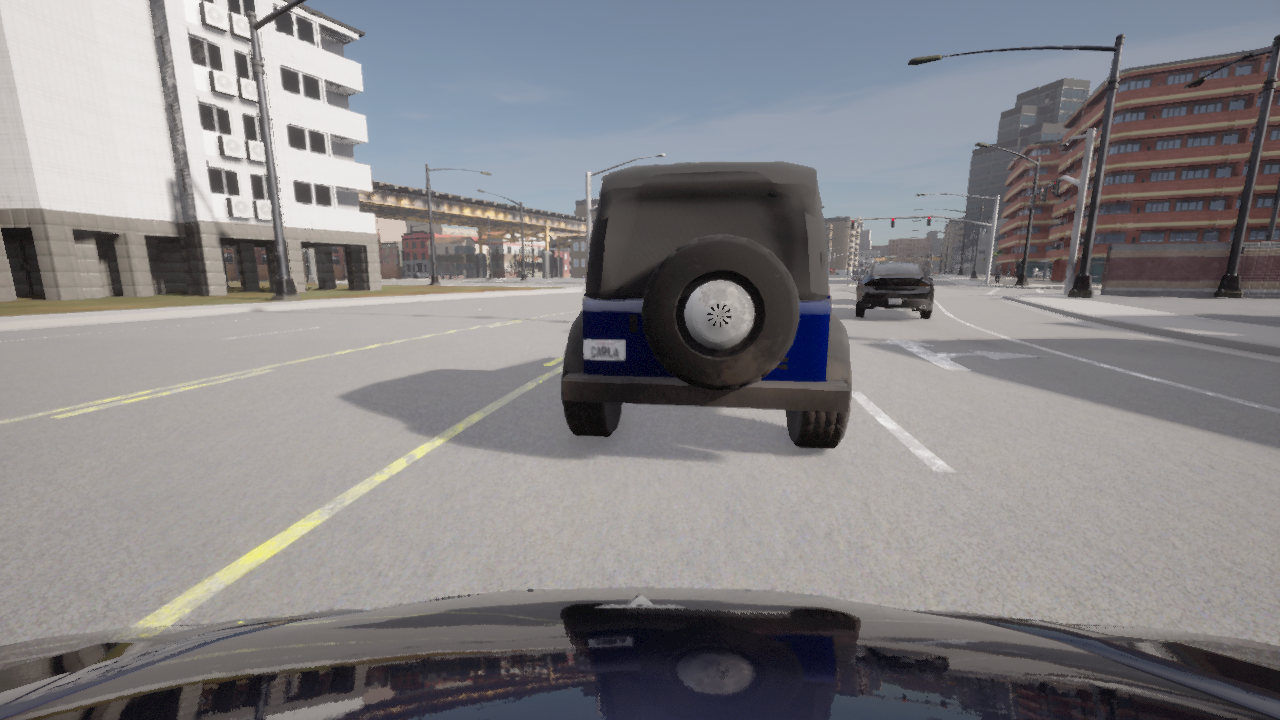cyclist: (0, 588, 1279, 719), (562, 161, 851, 447), (852, 262, 933, 318), (416, 272, 432, 278), (439, 272, 451, 278)
pedestrian: (993, 265, 1002, 288), (580, 273, 585, 286)
